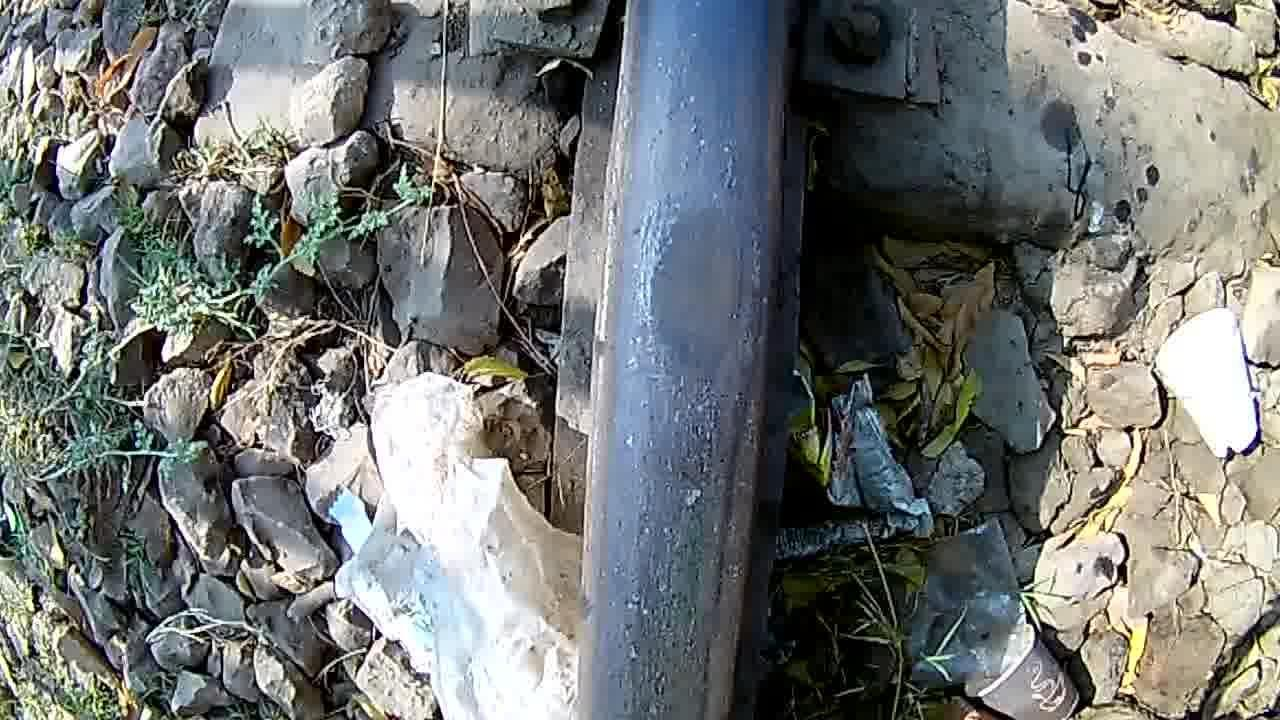crack: (599, 146, 784, 562)
